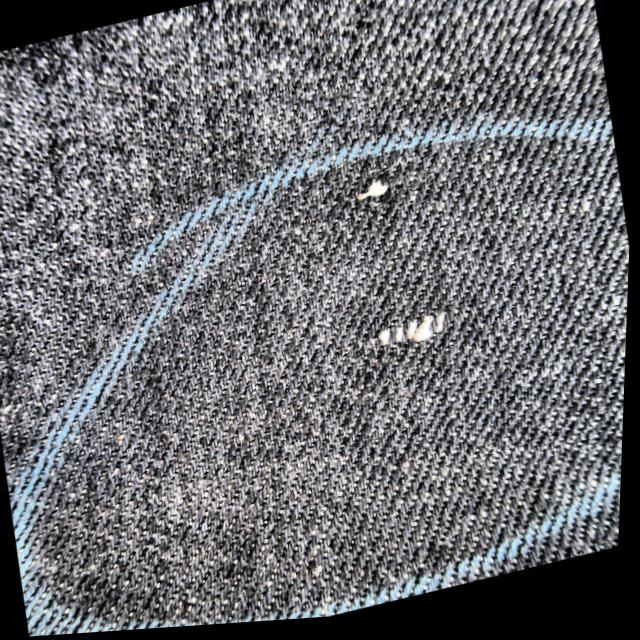Hole: (349, 301, 472, 374), (337, 168, 411, 231)
